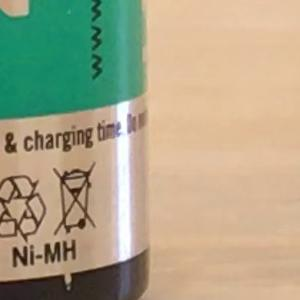keyword: (2, 229, 86, 278)
